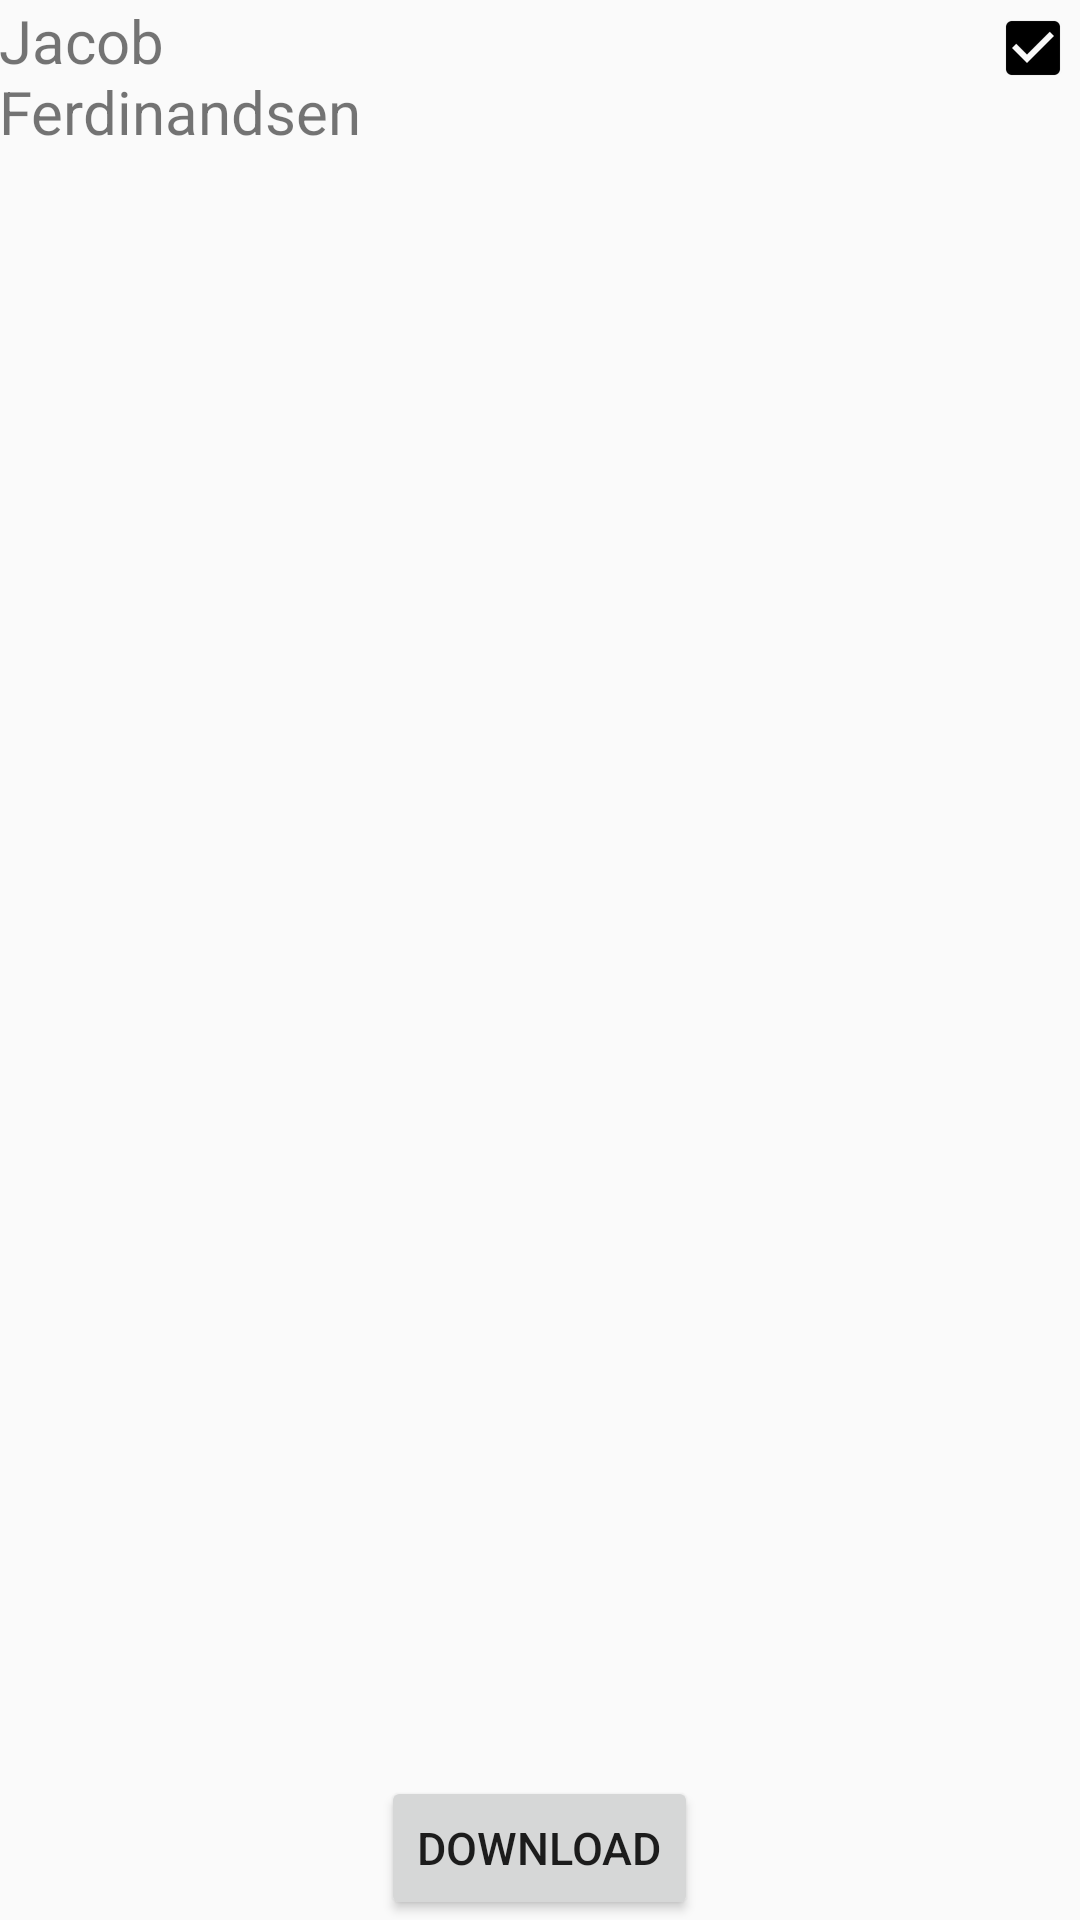

Point at icon controls on the screen. Image size 1080×1920, points as (x=x, y=y).
check to on: (x=1033, y=48)
